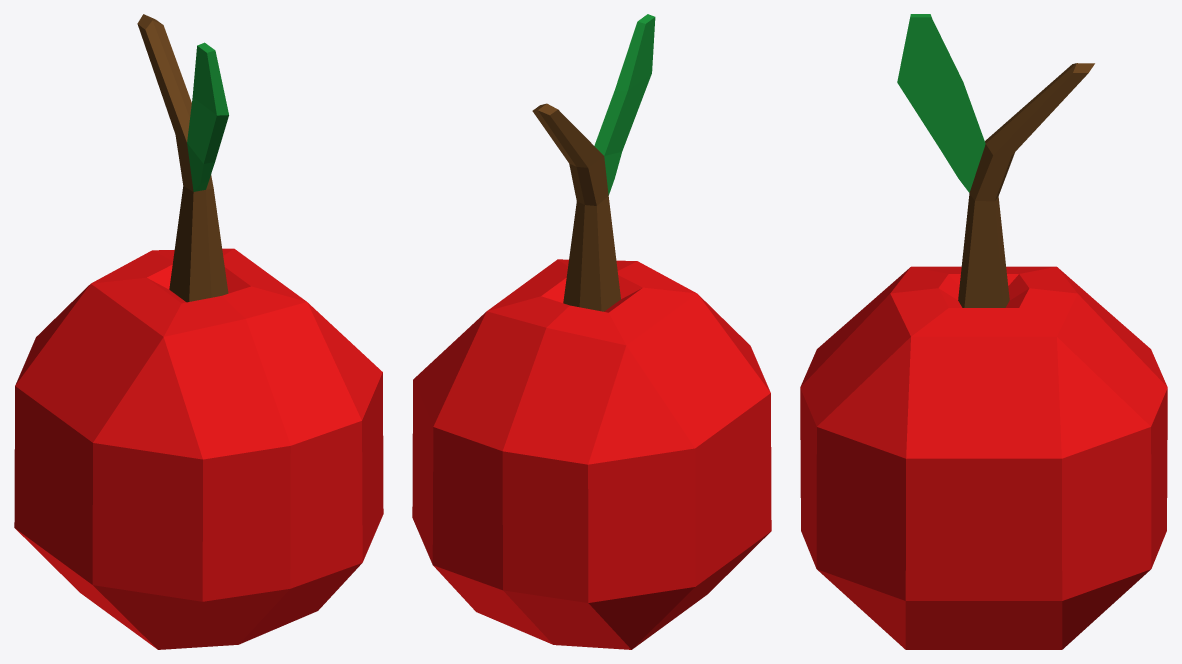
Rendered from apple4.fbx.
3 views of the same model, side by side, from view 1: azimuth 30°, elevation 25°; view 2: azimuth 150°, elevation 25°; view 3: azimuth 270°, elevation 25° (orthographic). The views are drawn at different scales.
Visible parts, largest first — view 1: Cube; view 2: Cube; view 3: Cube.
Part boxes in pixels (x1,y1,x2,y2): Cube: (14, 14, 383, 649); Cube: (412, 14, 771, 649); Cube: (800, 14, 1167, 649).
Size of the model in its own units: 164 by 322 by 179.
